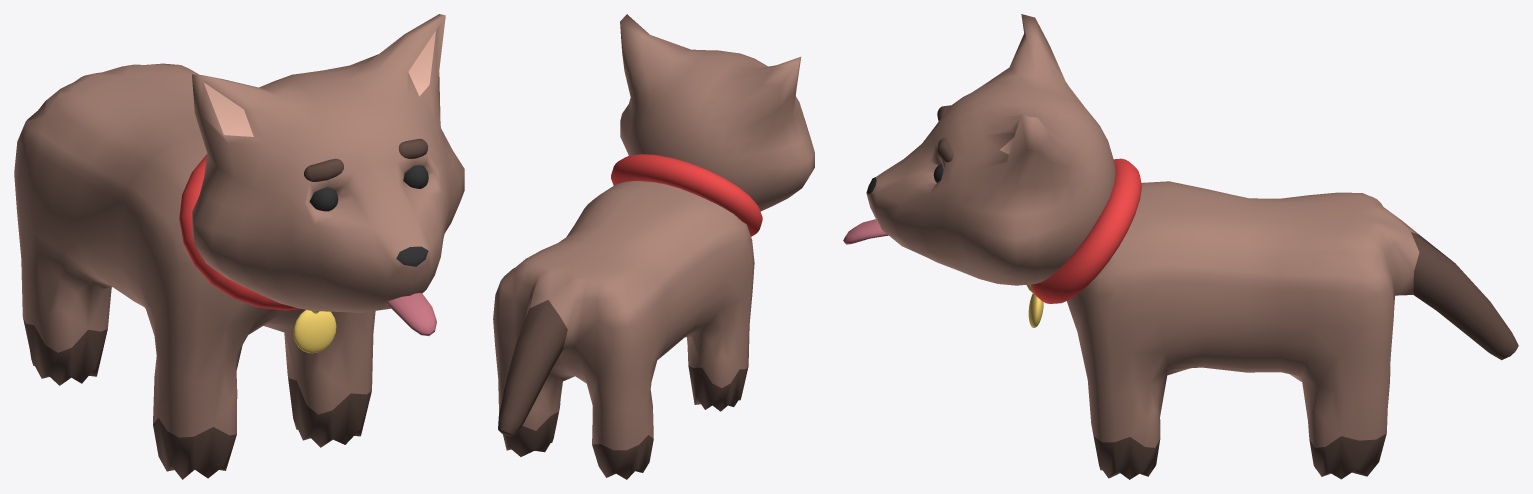
File: DOG.fbx
The picture shows the model from 3 angles, left to right: view 1: azimuth 30°, elevation 25°; view 2: azimuth 150°, elevation 25°; view 3: azimuth 270°, elevation 25°; orthographic projection. The views are drawn at different scales.
Visible parts, largest first — view 1: BODY, HEAD, COLLAR1, COLLAR2, TONGUE, EYEBROWS, EYES; view 2: BODY, HEAD, COLLAR1; view 3: BODY, HEAD, COLLAR1.
Boxes of the visible parts, x1,y1,x2,y2 form: BODY: [14, 63, 375, 479]; HEAD: [192, 14, 464, 312]; COLLAR1: [179, 154, 300, 310]; COLLAR2: [293, 310, 336, 353]; TONGUE: [386, 293, 436, 335]; EYEBROWS: [304, 138, 428, 181]; EYES: [309, 165, 428, 211]; BODY: [493, 181, 754, 479]; HEAD: [620, 14, 814, 211]; COLLAR1: [611, 154, 762, 236]; BODY: [1067, 181, 1518, 479]; HEAD: [866, 14, 1115, 285]; COLLAR1: [1030, 158, 1141, 303].
Size of the model in its own units: 2.79 by 4.55 by 7.37.
